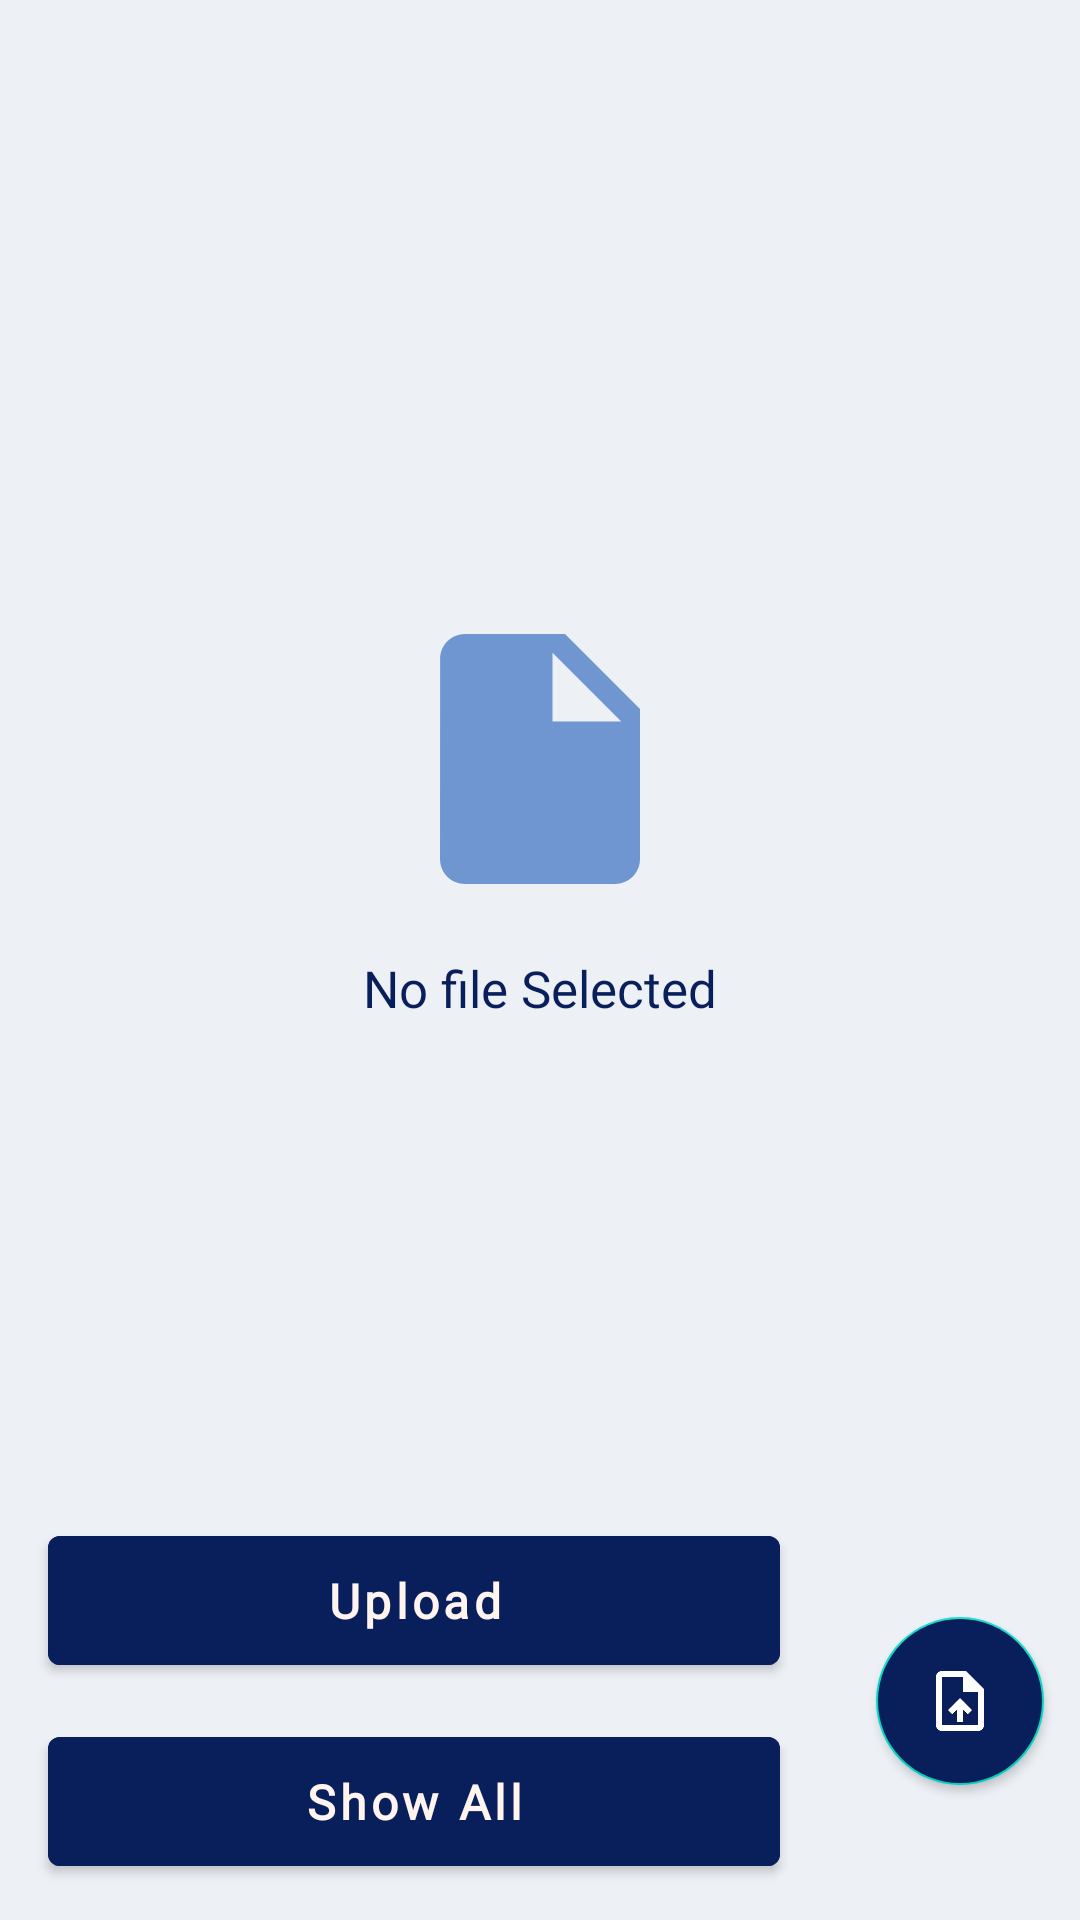

Named icons in this screenshot (1080×1920) and their bounding boxes, region(x1, y1, x2, y2):
insert drive file: region(440, 634, 640, 884)
